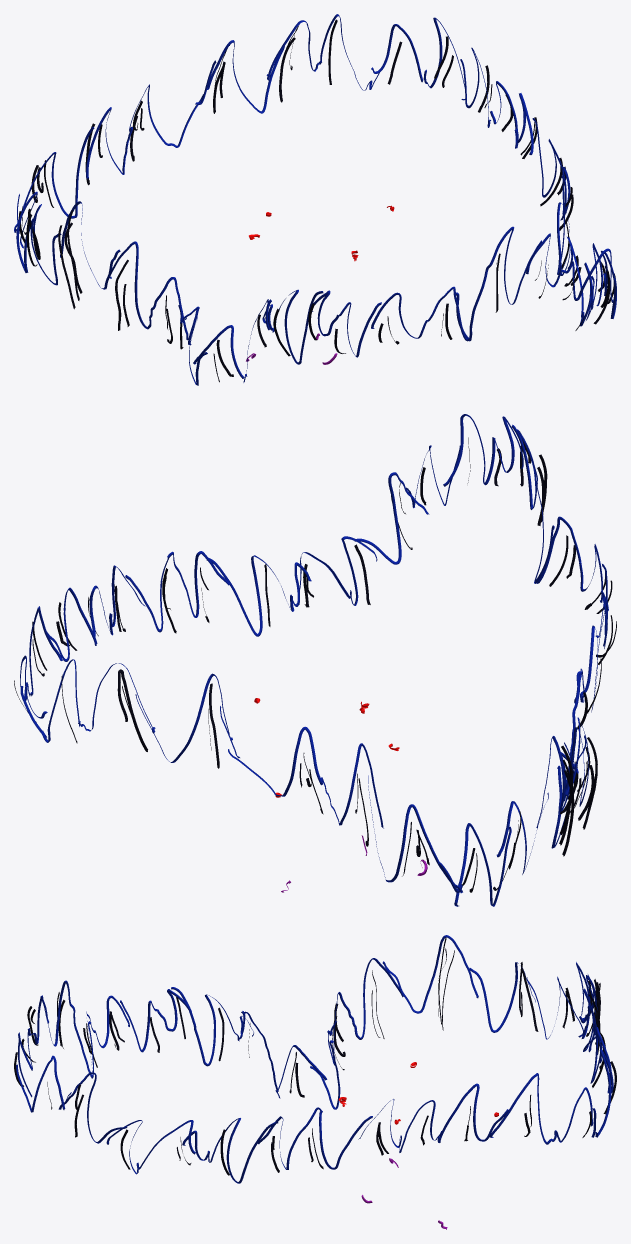
File: draco-demo.glb
3 renders of one model, top to bottom at view 1: azimuth 30°, elevation 25°; view 2: azimuth 150°, elevation 25°; view 3: azimuth 270°, elevation 25°, orthographic. The views are drawn at different scales.
Visible parts, largest first — view 1: latk_UnityLayer 2_0_mesh.086; view 2: latk_UnityLayer 2_0_mesh.086; view 3: latk_UnityLayer 2_0_mesh.086.
Part boxes in pixels (x1,y1,x2,y2): latk_UnityLayer 2_0_mesh.086: (14, 14, 616, 385); latk_UnityLayer 2_0_mesh.086: (14, 414, 616, 906); latk_UnityLayer 2_0_mesh.086: (14, 935, 616, 1183).
Bounding box in the file's own units: 39.53 × 22.19 × 49.13.
